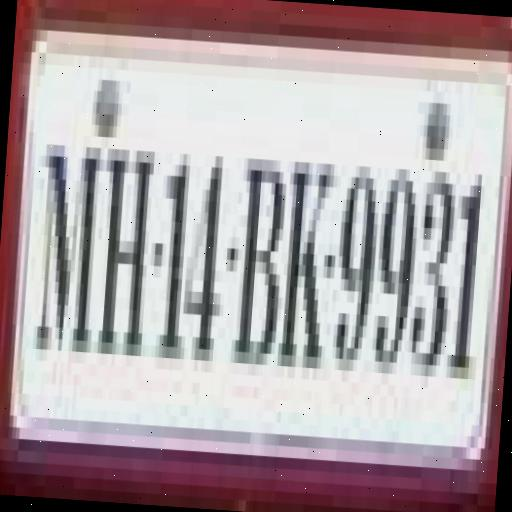number plate: (0, 29, 501, 460)
